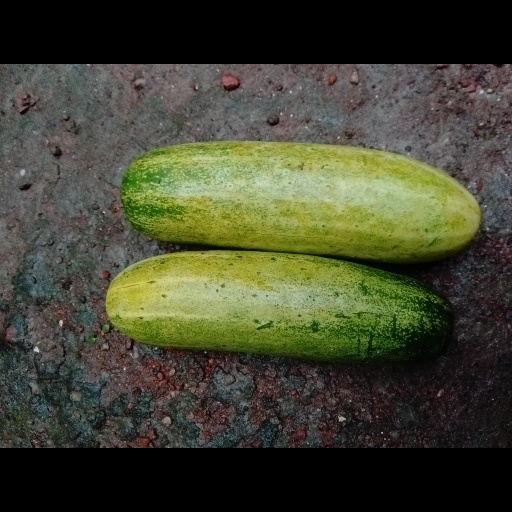concombre: (120, 141, 482, 266), (105, 250, 456, 367)
